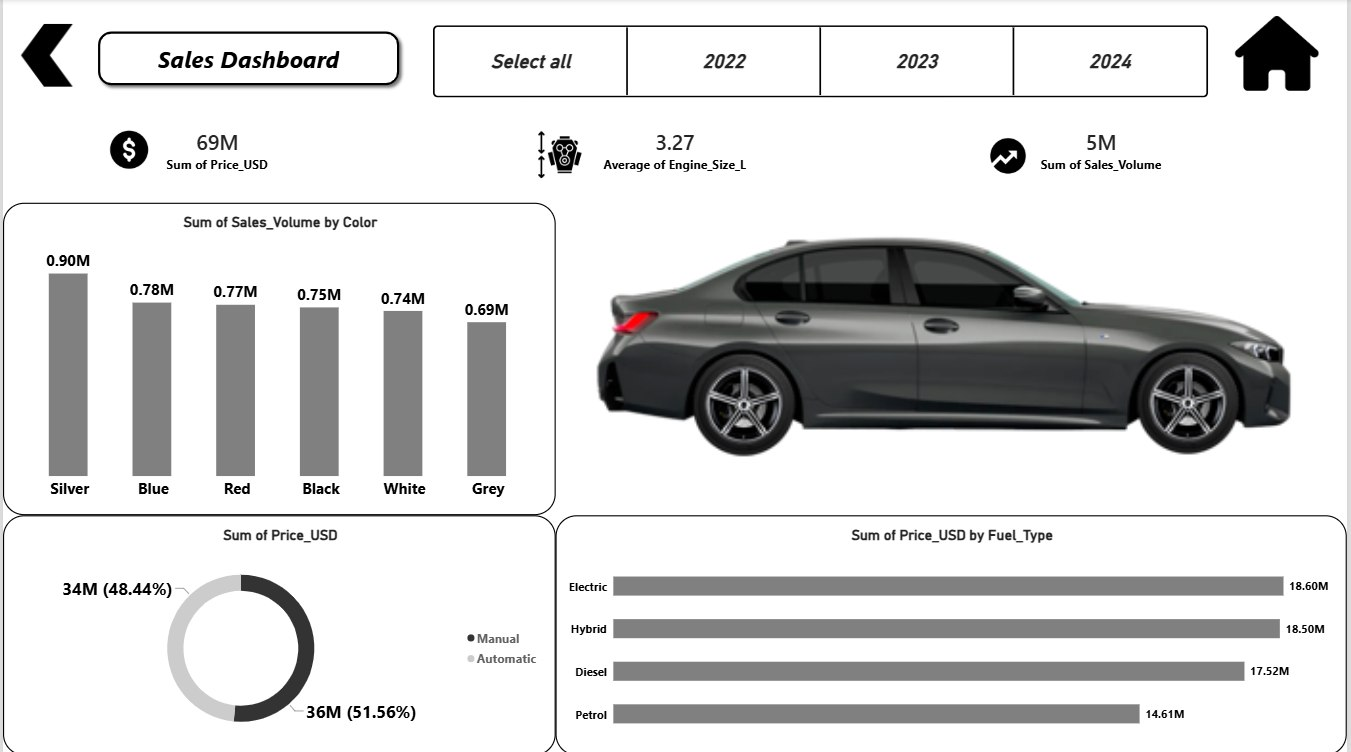

This screenshot's page, from the dashboard's own definition file:
{"tool":"powerbi","page":{"name":"3 Series","canvas":[1920,1080],"ordinal":6},"visuals":[{"type":"shape","box":[126.8,37.5,448.2,94.6],"z":0},{"type":"advancedSlicerVisual","fields":{"Values":["BMW_Car_Sales_Classification - BMW_Car_Sales_Classification.Year"]},"box":[614.3,37.5,1110.7,103.6],"z":1000},{"type":"cardVisual","fields":{"Data":["Sum(BMW_Car_Sales_Classification - BMW_Car_Sales_Classification.Price_USD)"]},"box":[82.1,141.1,448,150],"z":2000},{"type":"cardVisual","fields":{"Data":["Sum(BMW_Car_Sales_Classification - BMW_Car_Sales_Classification.Sales_Volume)"]},"box":[1344.6,141.1,448,150],"z":3000},{"type":"cardVisual","fields":{"Data":["Avg(BMW_Car_Sales_Classification - BMW_Car_Sales_Classification.Engine_Size_L)"]},"box":[735.7,141.1,448,150],"z":4000},{"type":"image","box":[148.2,185.7,64.3,58.9],"z":5000},{"type":"image","box":[703.6,185.7,183.9,73.2],"z":6000},{"type":"image","box":[1405.4,185.7,60.7,76.8],"z":7000},{"type":"image","box":[796.4,225,1094.6,508.9],"z":8000},{"type":"columnChart","fields":{"Category":["BMW_Car_Sales_Classification - BMW_Car_Sales_Classification.Color"],"Y":["Sum(BMW_Car_Sales_Classification - BMW_Car_Sales_Classification.Sales_Volume)"]},"box":[0,291.1,789.3,446.4],"z":9000},{"type":"donutChart","title":"Sum of Price_USD ","fields":{"Category":["BMW_Car_Sales_Classification - BMW_Car_Sales_Classification.Transmission"],"Y":["Sum(BMW_Car_Sales_Classification - BMW_Car_Sales_Classification.Price_USD)"]},"box":[0,737.5,789.3,342.9],"z":10000},{"type":"barChart","fields":{"Category":["BMW_Car_Sales_Classification - BMW_Car_Sales_Classification.Fuel_Type"],"Y":["Sum(BMW_Car_Sales_Classification - BMW_Car_Sales_Classification.Price_USD)"]},"box":[789.3,737.5,1130.4,342.9],"z":11000},{"type":"image","box":[1748.2,0,142.9,155.4],"z":11001},{"type":"image","box":[17.9,19.6,89.3,121.4],"z":11002}]}

Visuals, with their boxes in screenshot pixels (x1, y1, x2, y2), scaled from the page's 1920x1080 canvas onto the 1351x752 screenshot:
shape: bbox=[89, 26, 405, 92]
advancedSlicerVisual - BMW_Car_Sales_Classification - BMW_Car_Sales_Classification.Year: bbox=[432, 26, 1214, 98]
cardVisual - Sum(BMW_Car_Sales_Classification - BMW_Car_Sales_Classification.Price_USD): bbox=[58, 98, 373, 203]
cardVisual - Sum(BMW_Car_Sales_Classification - BMW_Car_Sales_Classification.Sales_Volume): bbox=[946, 98, 1261, 203]
cardVisual - Avg(BMW_Car_Sales_Classification - BMW_Car_Sales_Classification.Engine_Size_L): bbox=[518, 98, 833, 203]
image: bbox=[104, 129, 150, 170]
image: bbox=[495, 129, 624, 180]
image: bbox=[989, 129, 1032, 183]
image: bbox=[560, 157, 1331, 511]
columnChart - BMW_Car_Sales_Classification - BMW_Car_Sales_Classification.Color x Sum(BMW_Car_Sales_Classification - BMW_Car_Sales_Classification.Sales_Volume): bbox=[0, 203, 555, 514]
"Sum of Price_USD " donutChart: bbox=[0, 514, 555, 751]
barChart - BMW_Car_Sales_Classification - BMW_Car_Sales_Classification.Fuel_Type x Sum(BMW_Car_Sales_Classification - BMW_Car_Sales_Classification.Price_USD): bbox=[555, 514, 1350, 751]
image: bbox=[1230, 0, 1331, 108]
image: bbox=[13, 14, 75, 98]
